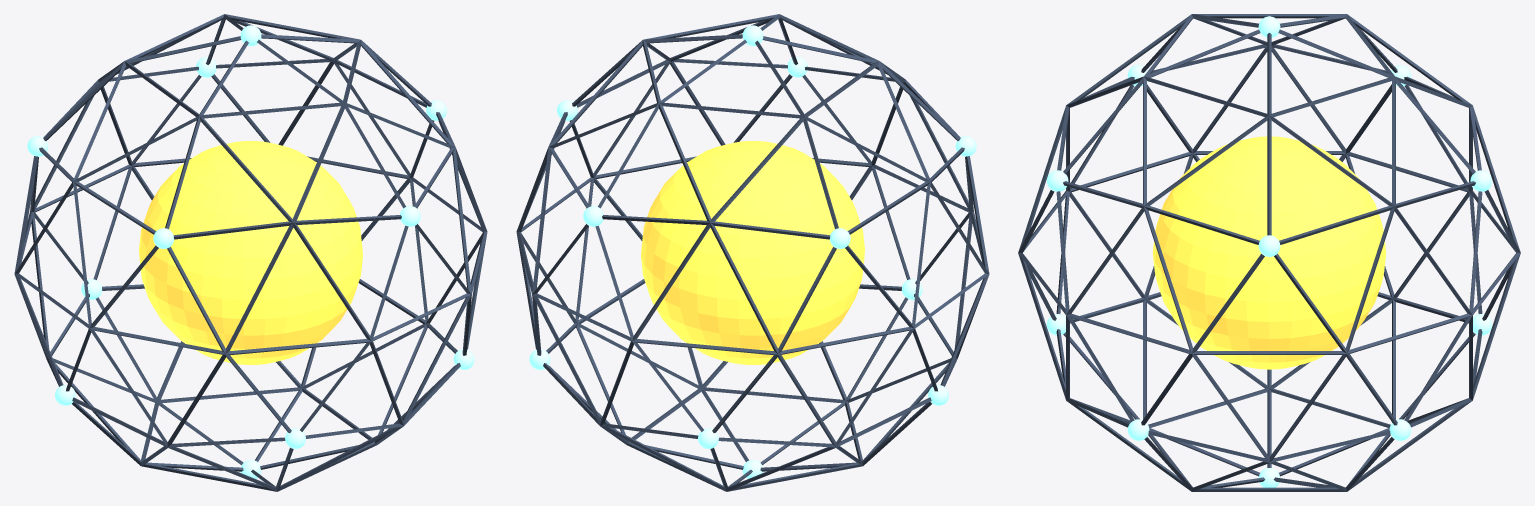
The model's file is neural_sphere.glb.
3 renders of one model, left to right at view 1: azimuth 30°, elevation 25°; view 2: azimuth 150°, elevation 25°; view 3: azimuth 270°, elevation 25°, orthographic. The views are drawn at different scales.
Visible parts, largest first — view 1: Ico_Wireframe, Luminescent_Core; view 2: Ico_Wireframe, Luminescent_Core; view 3: Ico_Wireframe, Luminescent_Core.
Boxes of the visible parts, <box> form: Ico_Wireframe: <box>14,14,487,491</box>; Luminescent_Core: <box>139,141,362,364</box>; Ico_Wireframe: <box>516,14,989,491</box>; Luminescent_Core: <box>641,141,864,364</box>; Ico_Wireframe: <box>1018,14,1520,491</box>; Luminescent_Core: <box>1152,136,1386,369</box>.
Size of the model in its own units: 3.07 by 3.34 by 3.23.
